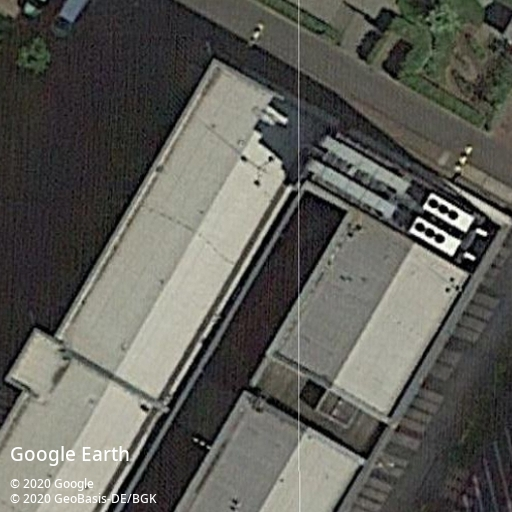Chiller: (408, 216, 462, 256), (422, 193, 477, 232)
